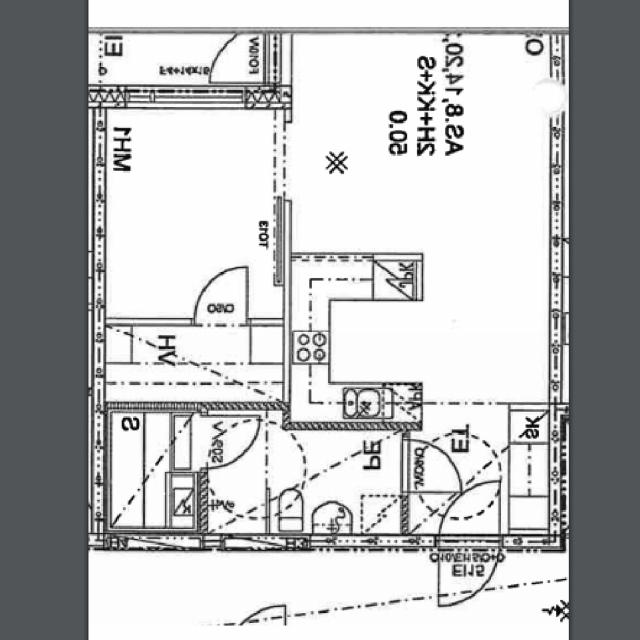door: (211, 25, 293, 82), (440, 536, 500, 611), (440, 477, 500, 551), (402, 440, 462, 492), (200, 416, 260, 468), (195, 266, 247, 326)
